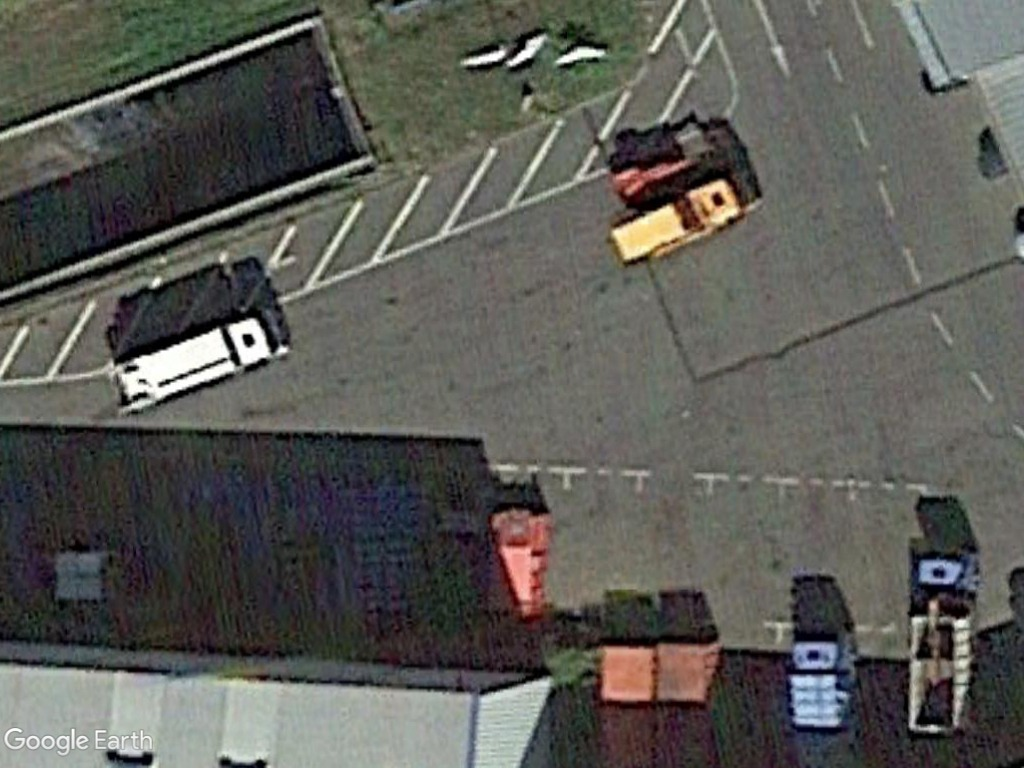truck: (108, 299, 290, 424), (607, 170, 752, 269)
